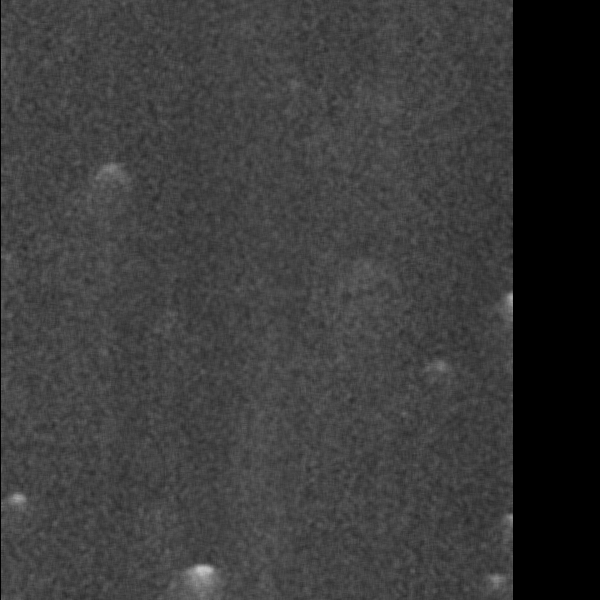spark: (238, 66, 296, 128)
